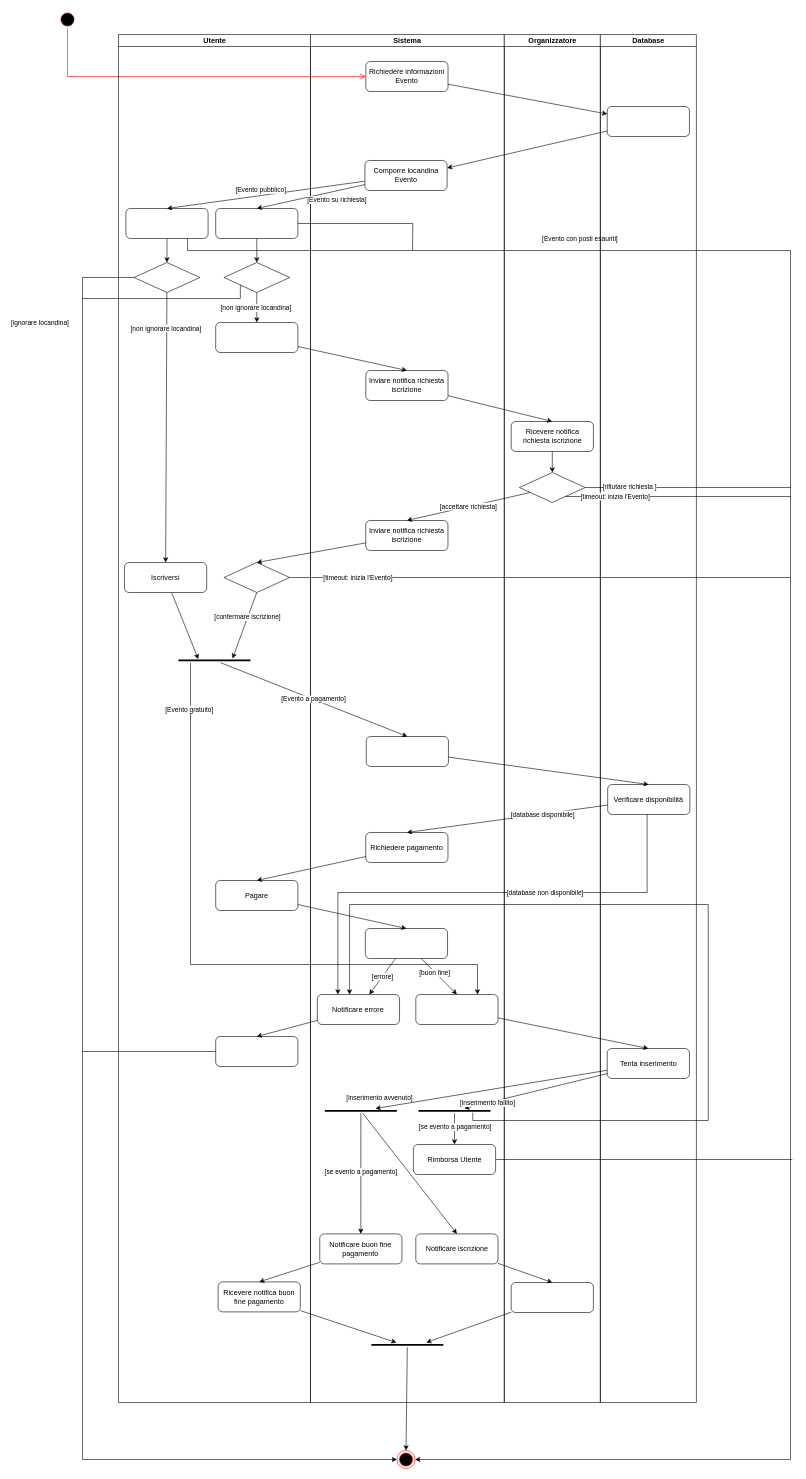
This 806x1479 diagram has some shape labels left out. The shapes that lost their labels are listed below. From the top down, each one's centre as x and y in pixels, then its label:
(648,121): Fornire informazioni Evento
(166,223): Visualizzare locandina Evento pubblico
(256,223): Visualizzare locandina Evento su richiesta
(256,337): Richiedere iscrizione
(407,751): Richiedere disponibilità database
(406,943): Verificare buon fine Pagameto
(456,1009): Query inserimento in database
(256,1051): Ricevere notifica errore
(552,1297): Ricevere notifica iscrizione
